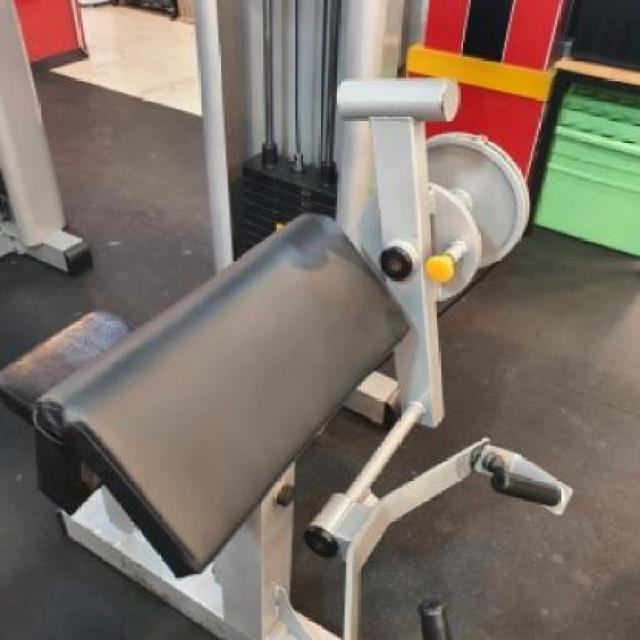arm curl machine: (4, 211, 570, 640)
